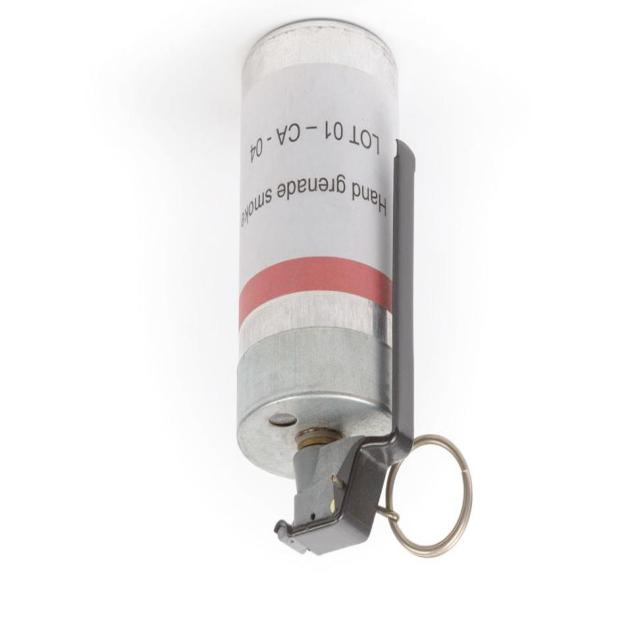grenade: (237, 19, 474, 562)
